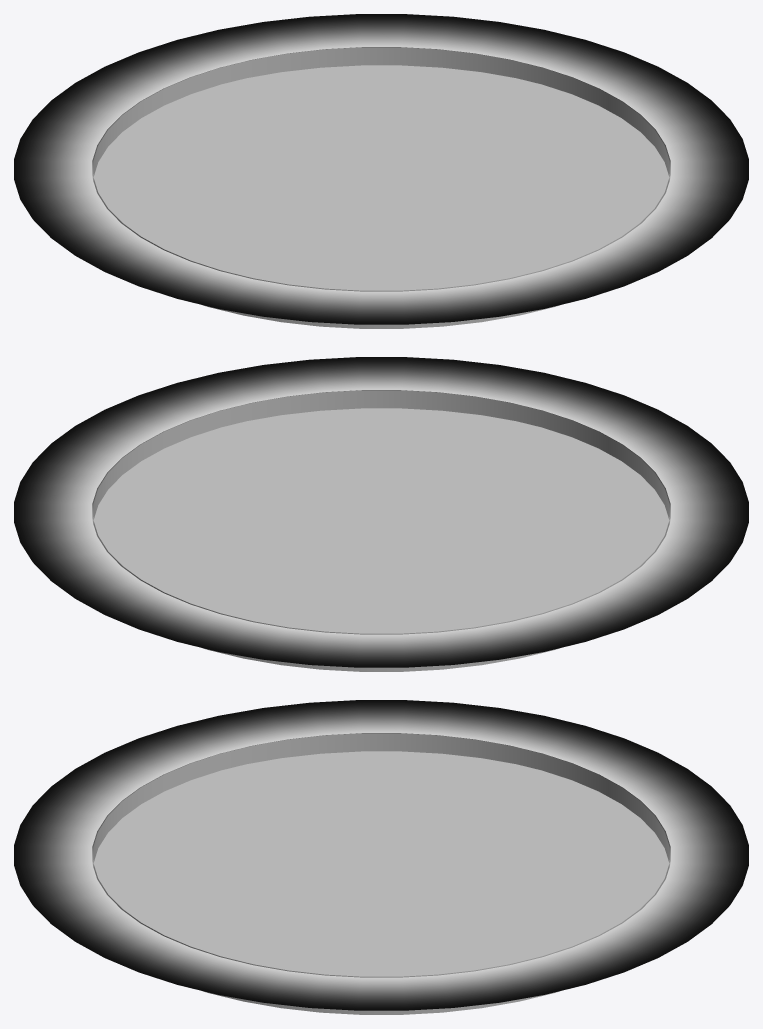
Rendered from CeilingCenter02_1.FBX.
The picture shows the model from 3 angles, top to bottom: view 1: azimuth 30°, elevation 25°; view 2: azimuth 150°, elevation 25°; view 3: azimuth 270°, elevation 25°; orthographic projection.
Parts seen in each view (by area): view 1: Ceiling, Backlight; view 2: Ceiling, Backlight; view 3: Ceiling, Backlight.
Boxes of the visible parts, box(x1,y1,x2,y2) form: Ceiling: box(92, 47, 670, 328); Backlight: box(14, 14, 748, 324); Ceiling: box(92, 390, 670, 671); Backlight: box(14, 357, 748, 667); Ceiling: box(92, 733, 670, 1014); Backlight: box(14, 700, 748, 1010).
Bounding box in the file's own units: 589 × 26.5 × 589.
